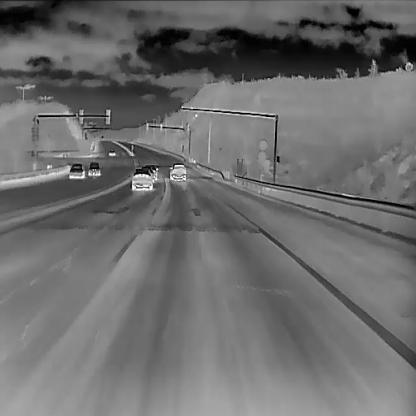car: (131, 168, 153, 190), (169, 163, 186, 181), (67, 162, 84, 178), (144, 164, 158, 180), (87, 160, 100, 176), (107, 148, 115, 155)
